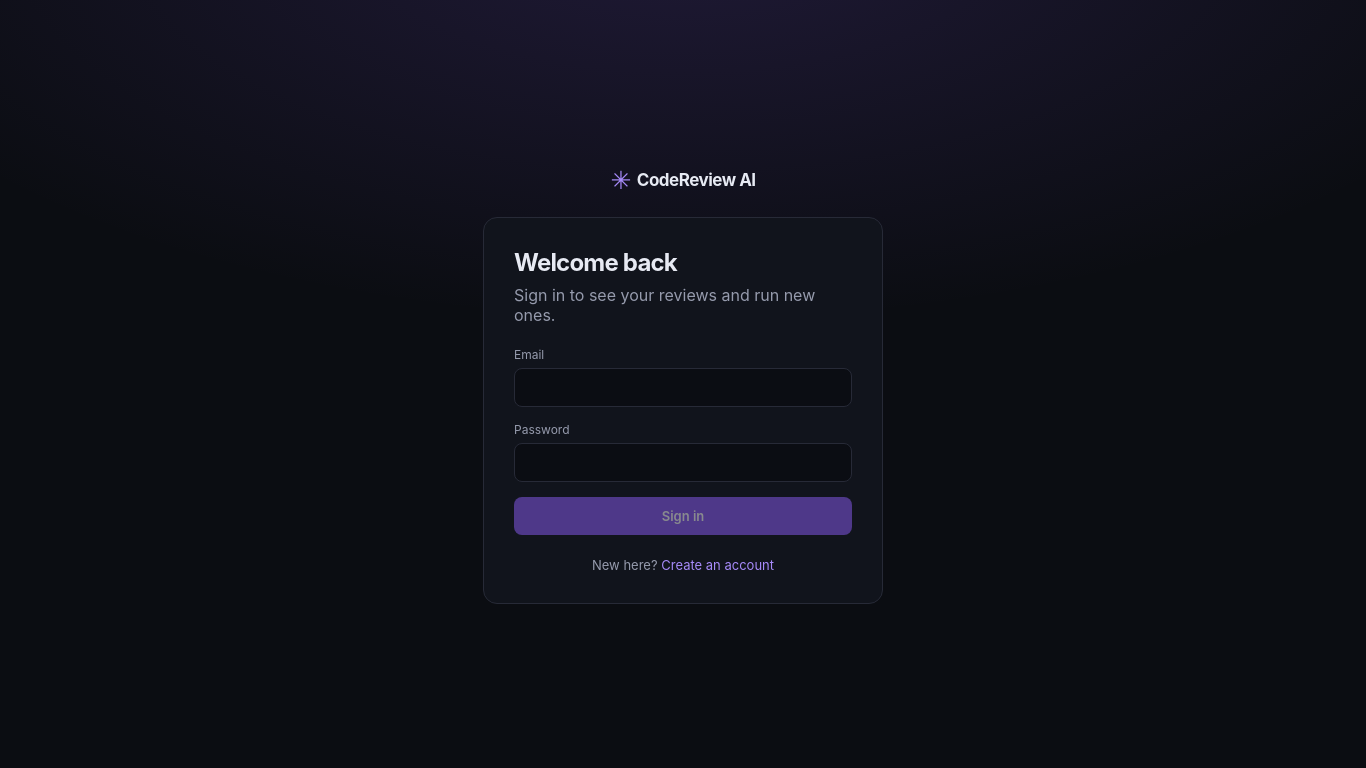
Test: login › signs in, stores the token and lands on the dashboard
The width and height of the screenshot is (1366, 768).
In the field labelled "Email": (683, 387) [514,368,852,406], type "ada@example.com"
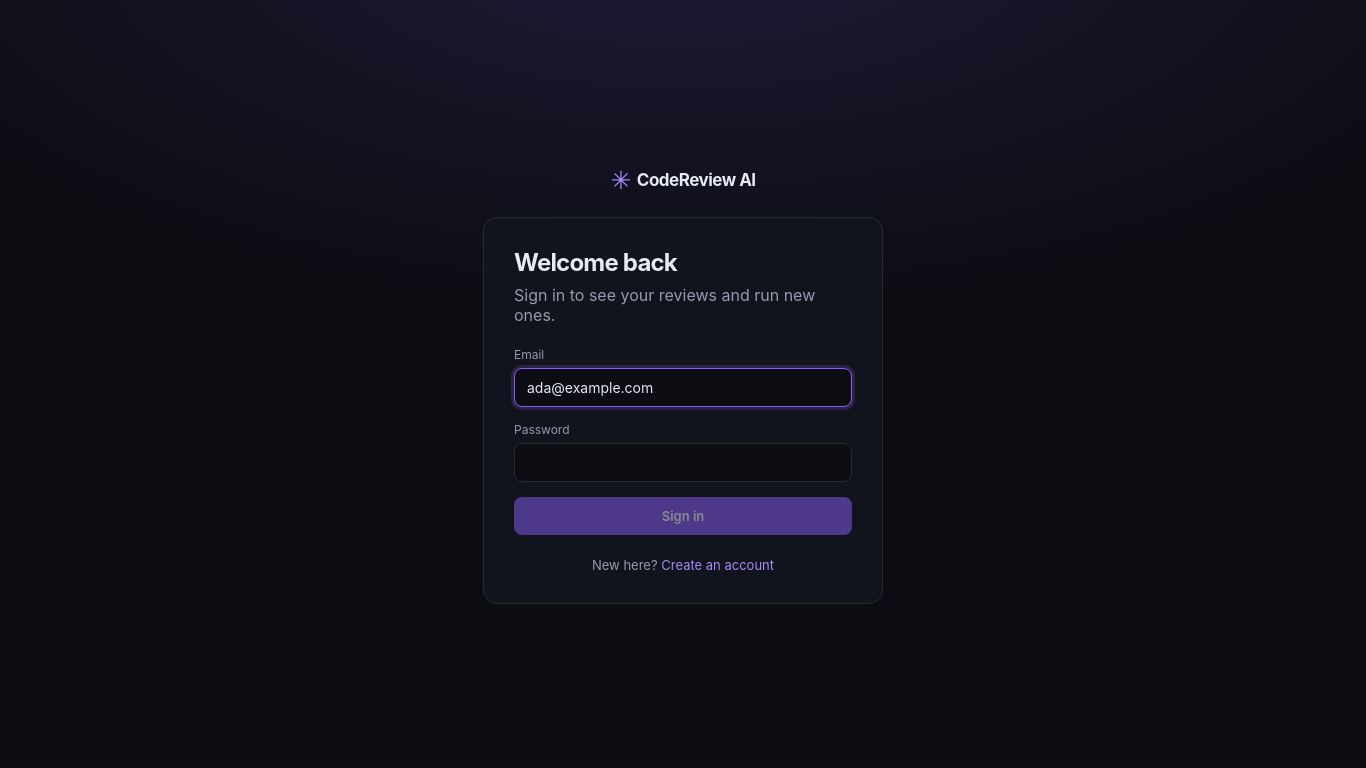
In the password field labelled "Password": (683, 462) [514,442,852,482], type "Passw0rdOK"
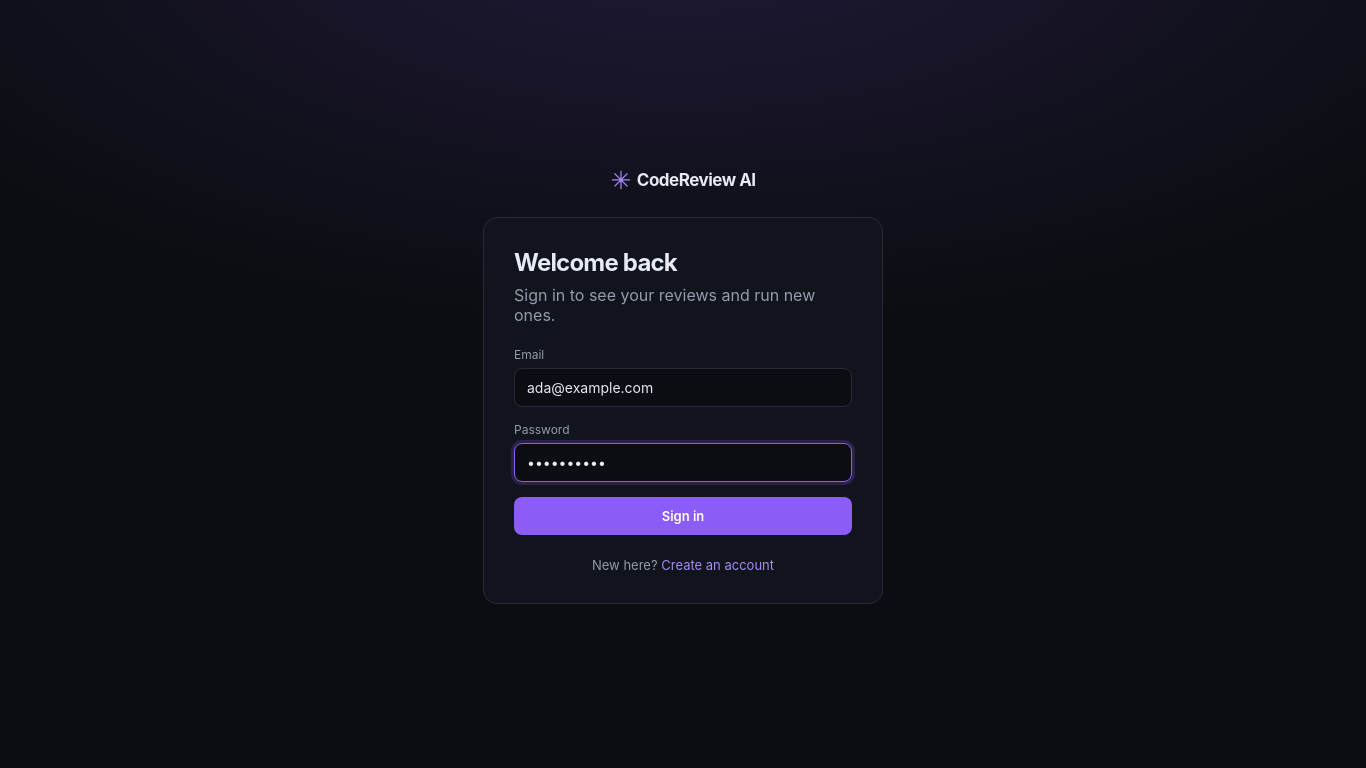
Click the button "Sign in": (683, 516) [514,496,852,534]
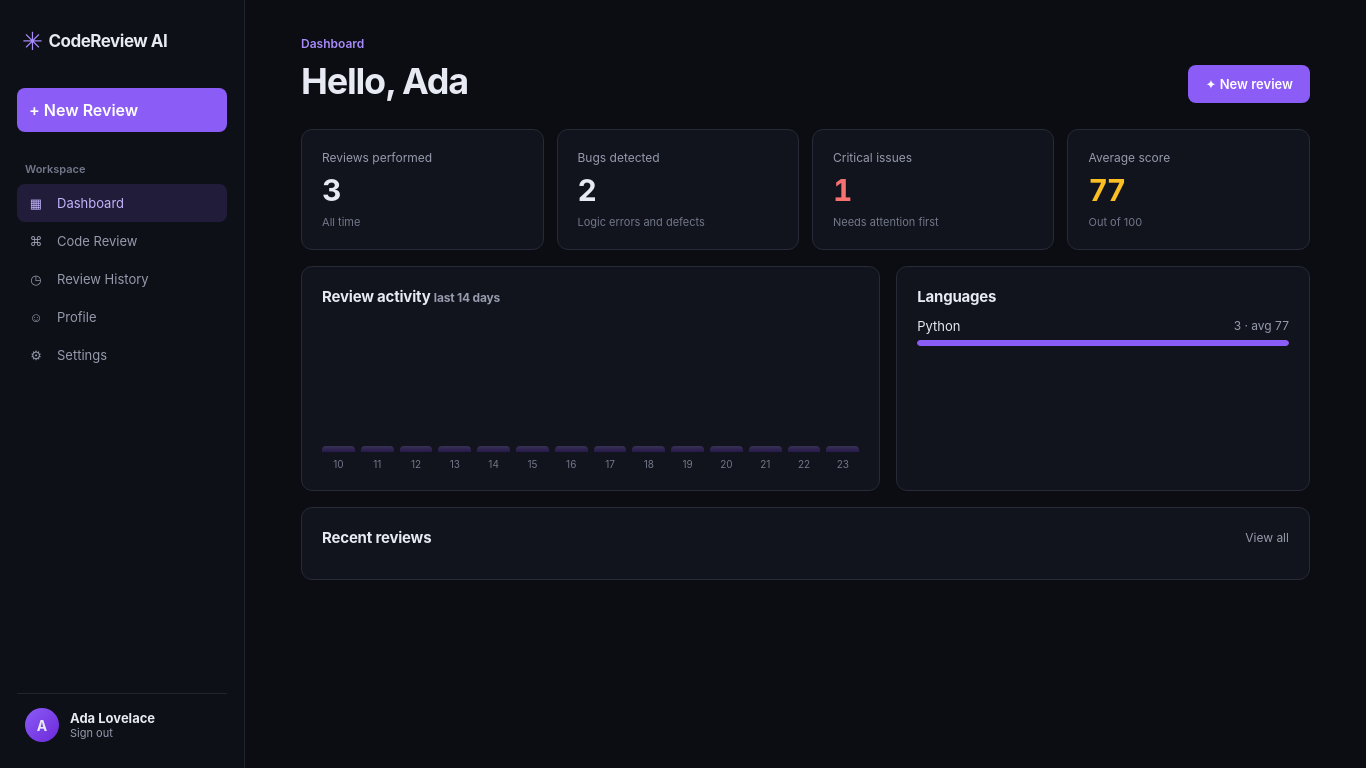
Result: the heading "Hello, Ada" is shown at [301,59,468,103]
Result: the text "77" is shown at [1088,172,1125,208]
